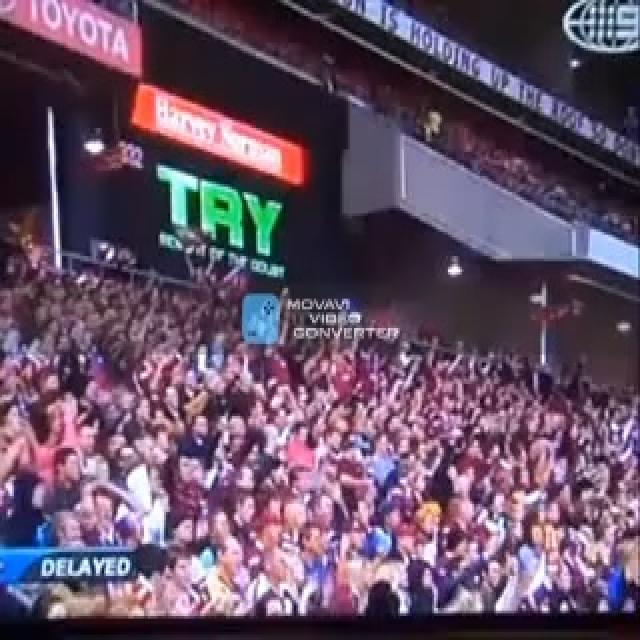non-voilence: (0, 218, 638, 618), (26, 0, 132, 64)
